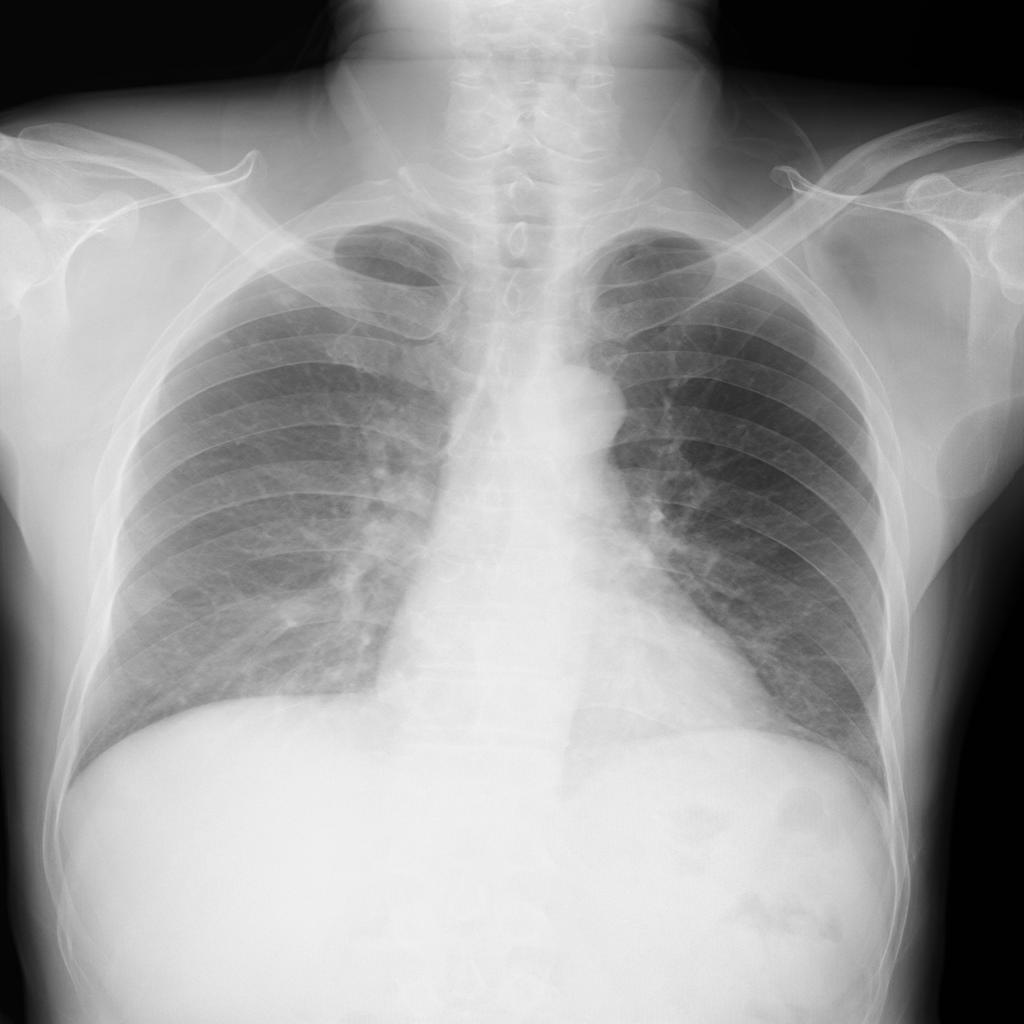Nodule: (274, 292, 301, 307)
